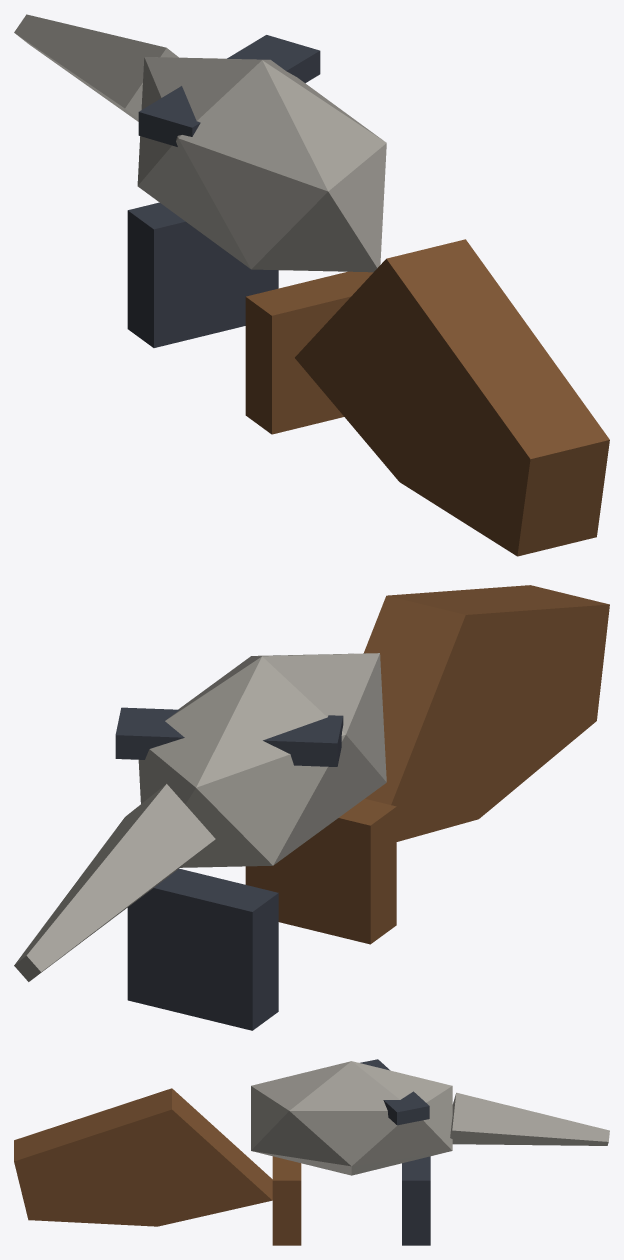
The model's file is tamandua.glb.
The picture shows the model from 3 angles, top to bottom: view 1: azimuth 30°, elevation 25°; view 2: azimuth 150°, elevation 25°; view 3: azimuth 270°, elevation 25°; orthographic projection. The views are drawn at different scales.
Visible parts, largest first — view 1: corpo; view 2: corpo; view 3: corpo.
Boxes of the visible parts, x1=… form: corpo: x1=14, y1=14, x2=609, y2=556; corpo: x1=14, y1=585, x2=609, y2=1030; corpo: x1=14, y1=1059, x2=609, y2=1245.
Bounding box in the file's own units: 0.1752 × 0.258 × 0.8295.
